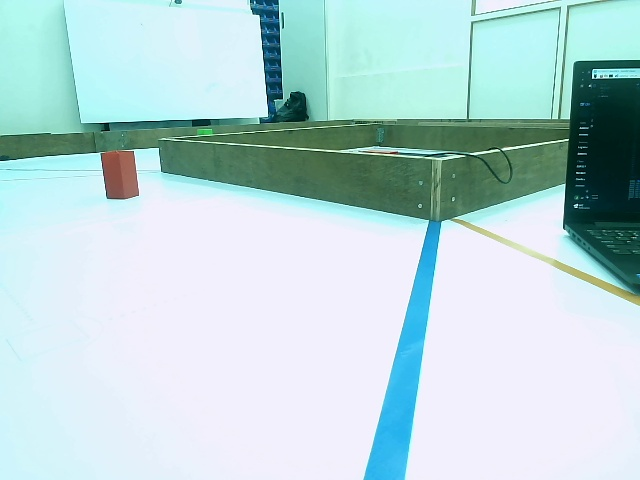red: (101, 150, 137, 198)
